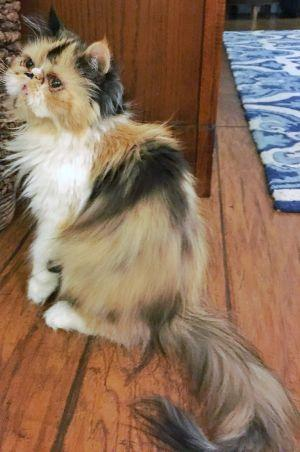persian: (1, 1, 127, 141)
